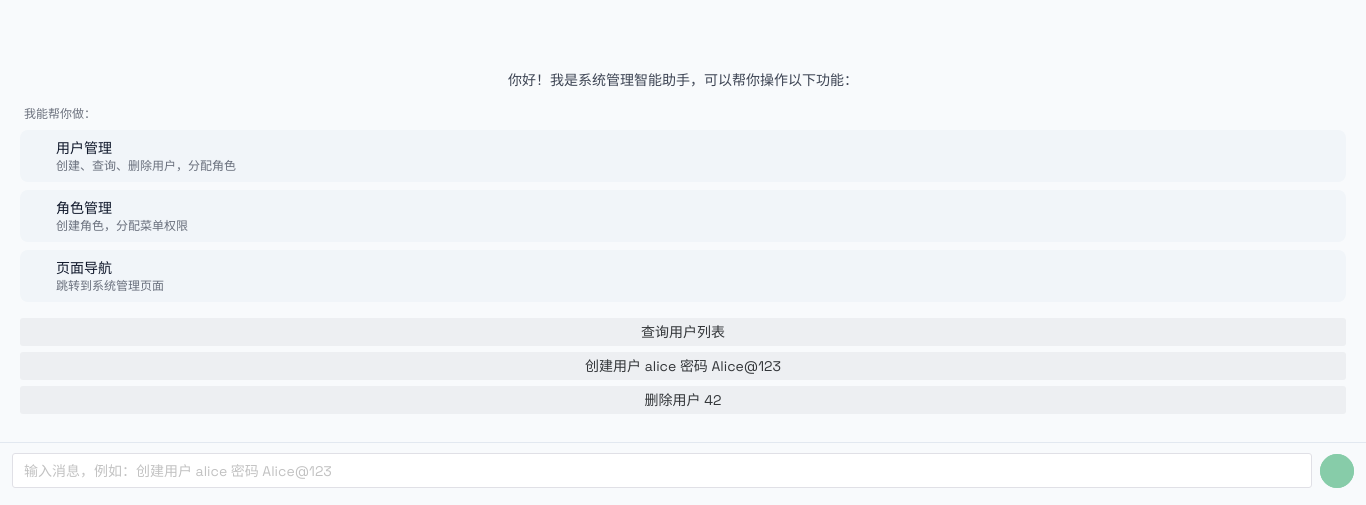
Test case: ChatPanel.vue AI 对话面板 › 回车提交消息并渲染用户与助手气泡
Type "查一下用户列表" into the text box with placeholder "输入消息，例如：创建用户 alice 密码 Alice@123" at (662, 471), box [24,453,1300,488]
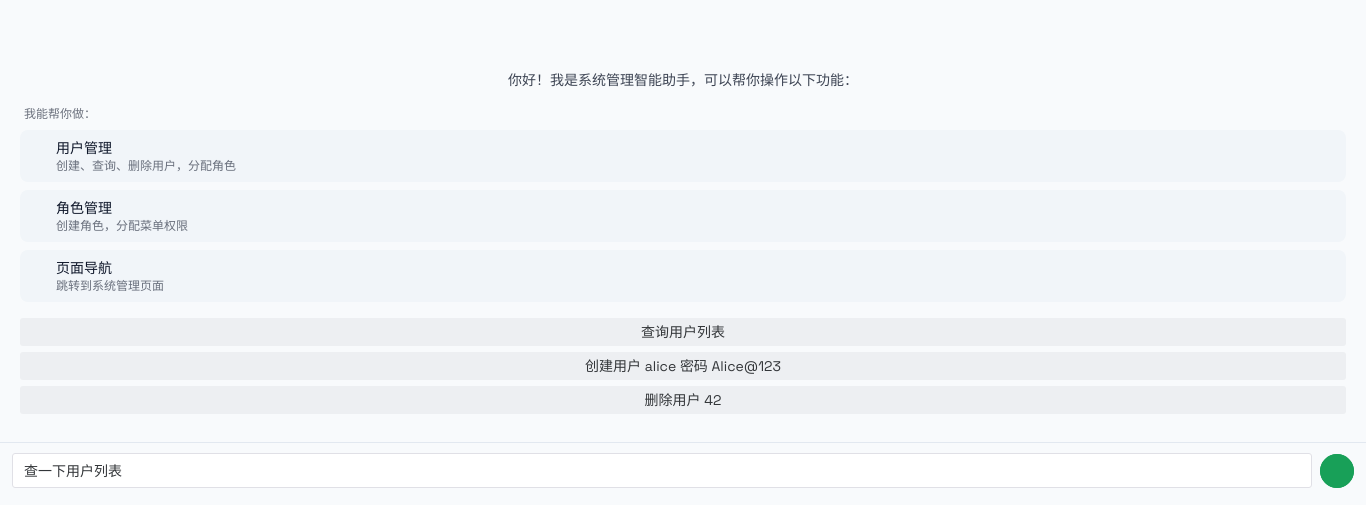
Press Enter in the text box, box [24,453,1300,488]
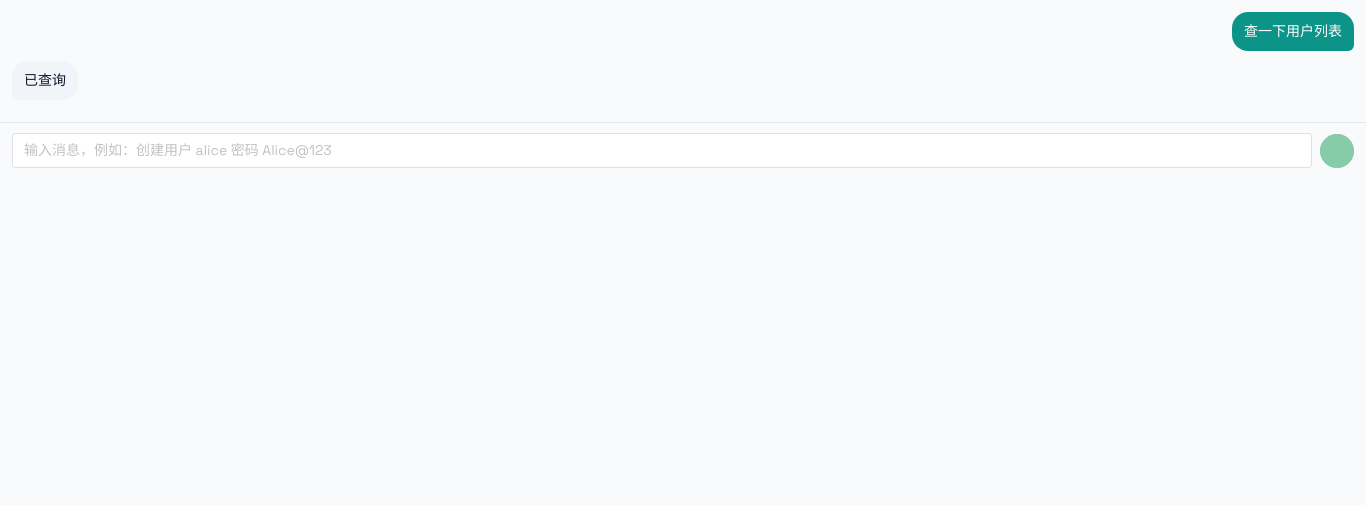
Check: the text "查一下用户列表" is shown, box [1244,22,1342,40]
Check: the text "已查询" is shown, box [24,71,66,89]
